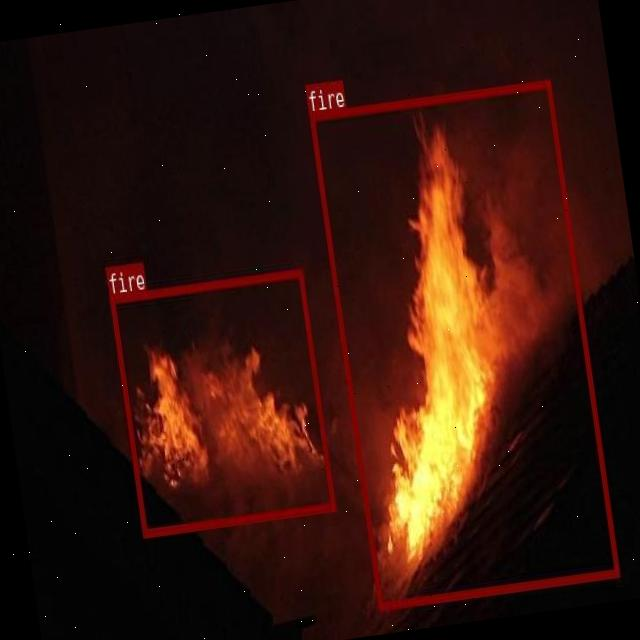fire: (309, 78, 620, 610), (110, 267, 336, 536)
